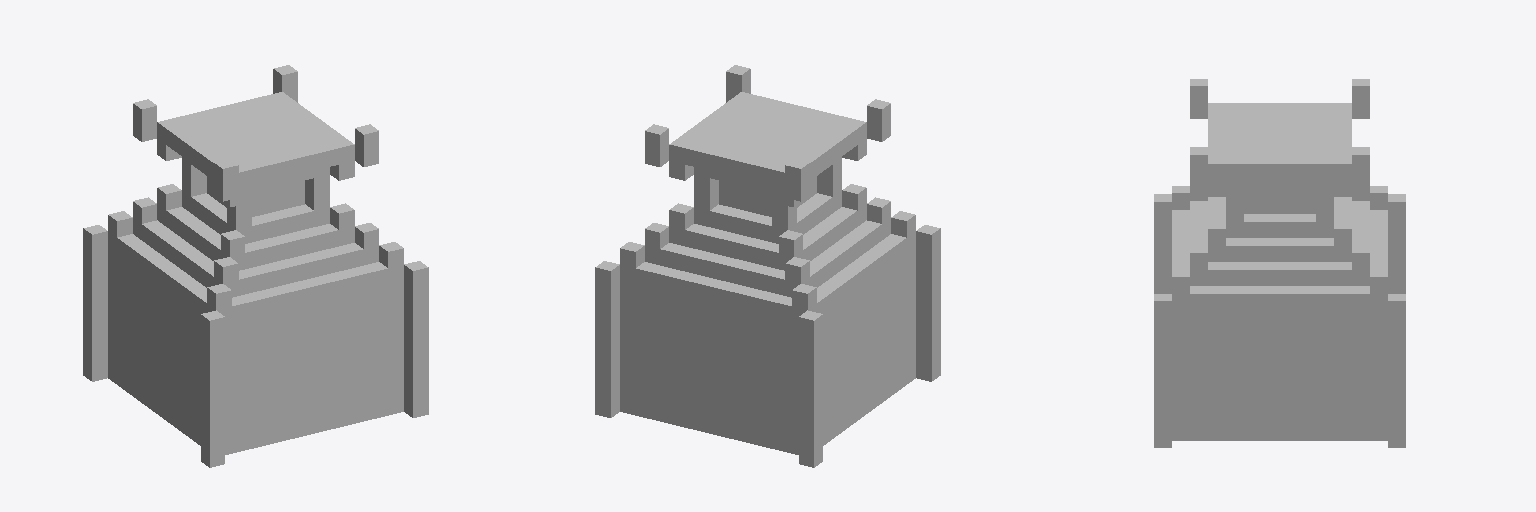
Rendered from grave.obj.
3 renders of one model, left to right at view 1: azimuth 30°, elevation 25°; view 2: azimuth 150°, elevation 25°; view 3: azimuth 270°, elevation 25°, orthographic.
Visible parts, largest first — view 1: Model_Model.001; view 2: Model_Model.001; view 3: Model_Model.001.
Part boxes in pixels (left/top/right/bottom): Model_Model.001: left=83, top=65, right=428, bottom=467; Model_Model.001: left=595, top=65, right=940, bottom=467; Model_Model.001: left=1154, top=79, right=1405, bottom=447.
Size of the model in its own units: 0.875 by 1.06 by 0.875.